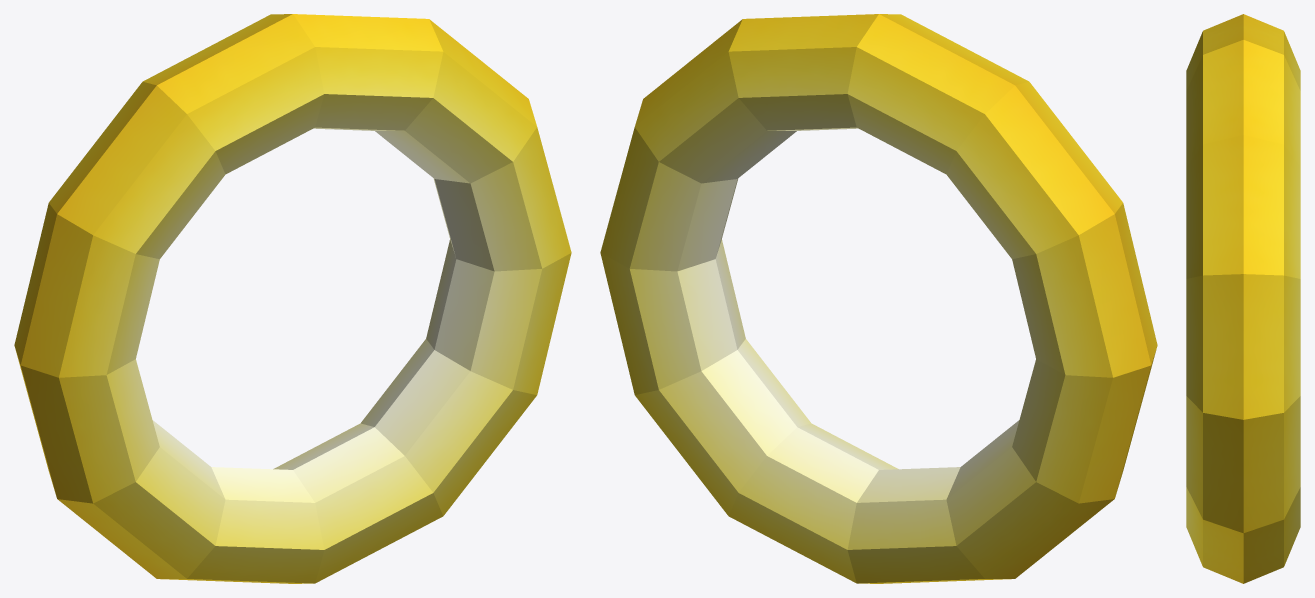
File: Ring.obj
3 views of the same model, side by side, from view 1: azimuth 30°, elevation 25°; view 2: azimuth 150°, elevation 25°; view 3: azimuth 270°, elevation 25° (orthographic). The views are drawn at different scales.
Parts seen in each view (by area): view 1: Torus; view 2: Torus; view 3: Torus.
Boxes of the visible parts, box(x1,y1,x2,y2) form: Torus: box(14, 14, 571, 583); Torus: box(600, 14, 1157, 583); Torus: box(1186, 14, 1300, 583).
Bounding box in the file's own units: 2.5 × 2.5 × 0.5.
